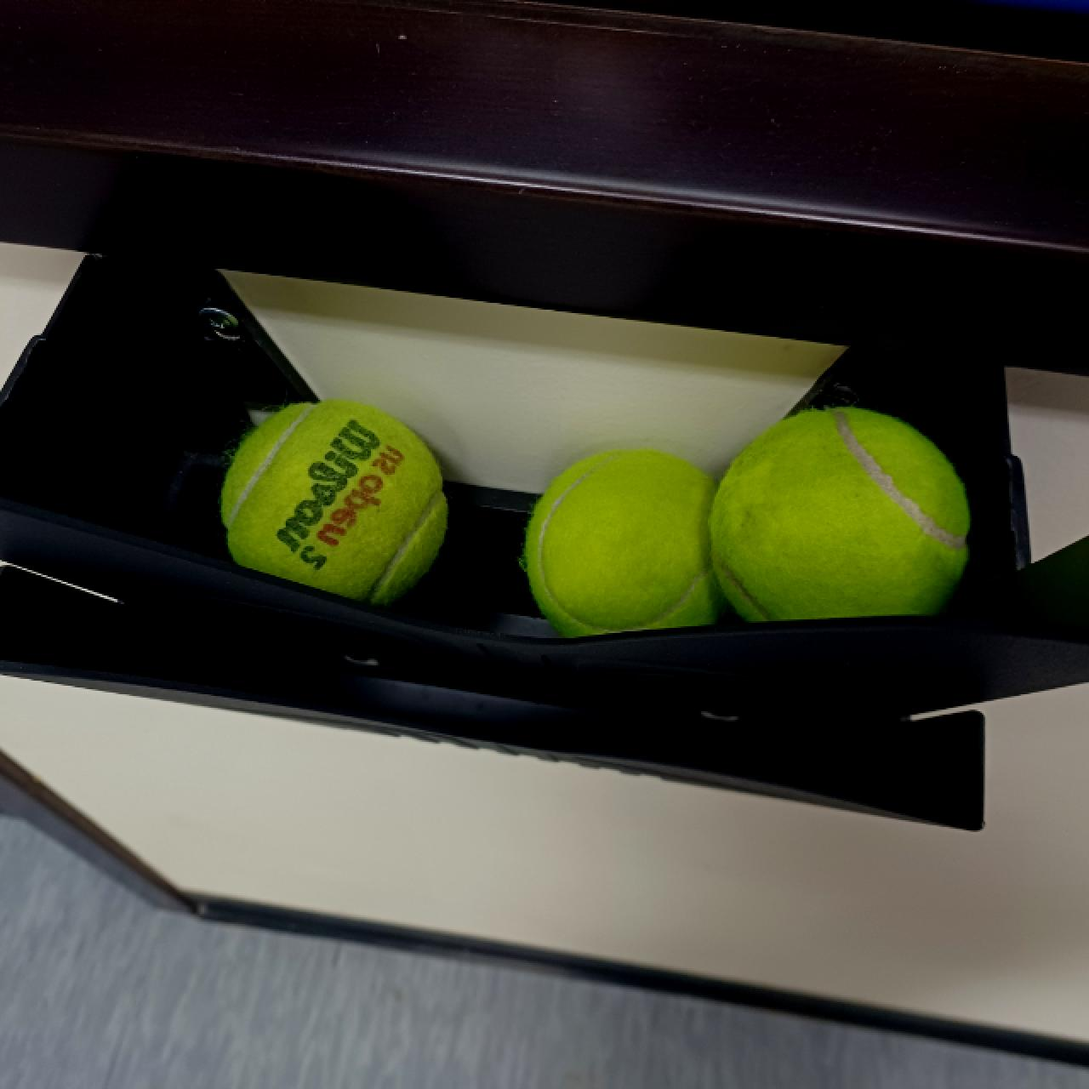tennis-ball: (708, 404, 970, 650), (220, 401, 450, 611), (520, 446, 736, 647)
